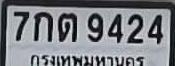2: (126, 13, 142, 42)
4: (147, 13, 162, 43), (107, 13, 122, 42)
7: (13, 10, 28, 40)
9: (87, 12, 102, 41)
A01: (33, 11, 52, 41)
A21: (57, 12, 76, 41)
BKK: (28, 51, 147, 66)
